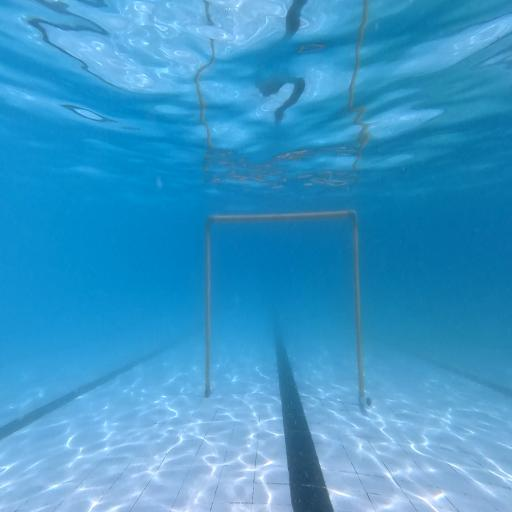gate: (205, 210, 371, 408)
